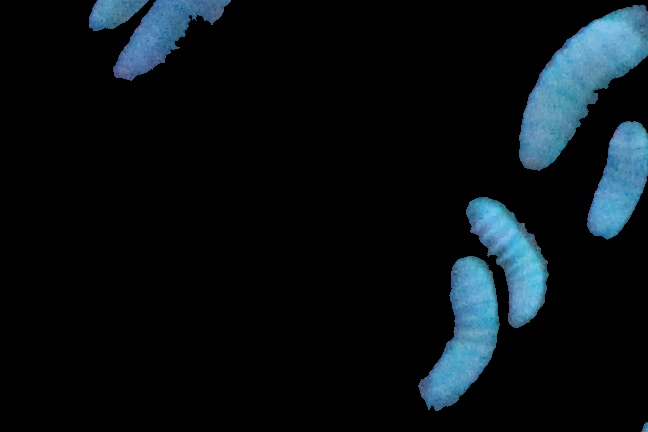larvae: (521, 7, 648, 174), (414, 251, 500, 402), (99, 1, 242, 84), (465, 197, 546, 322), (577, 125, 648, 239), (79, 1, 177, 33)
